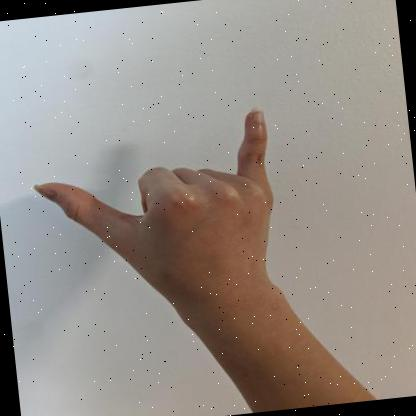Y: (33, 107, 281, 302)
